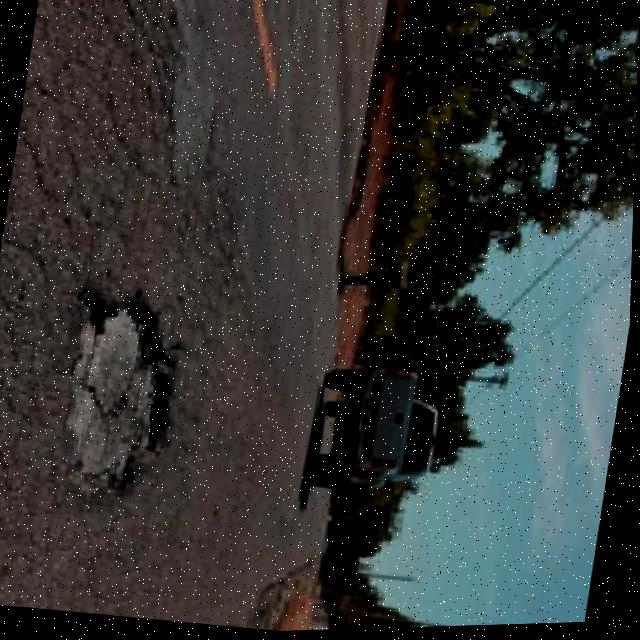Pothole: (47, 283, 195, 512)
